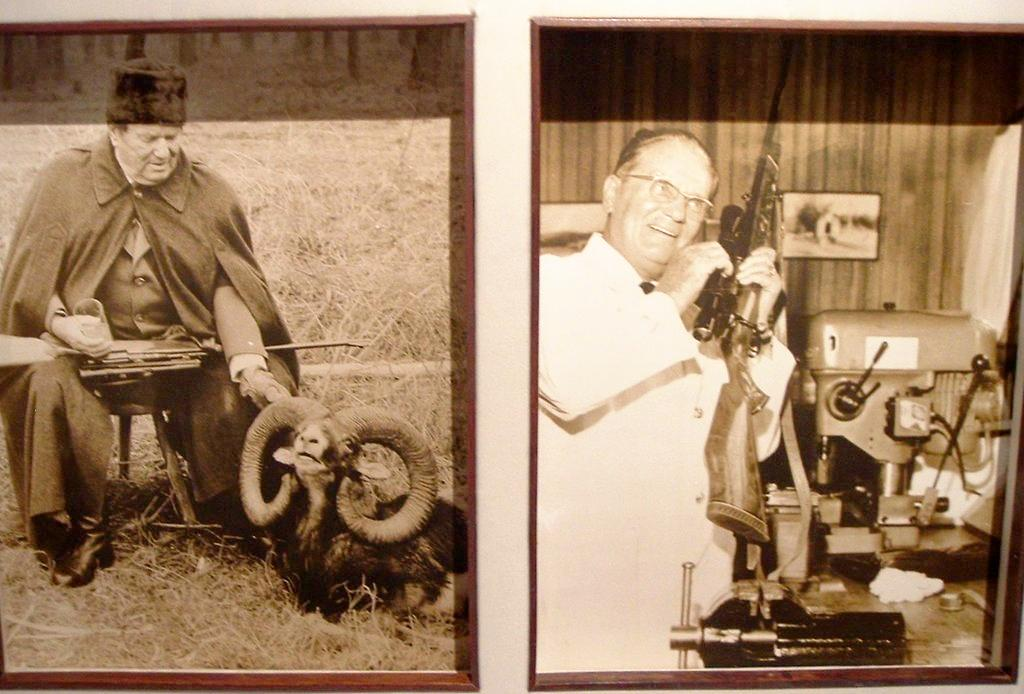Sheep: (204, 380, 448, 600)
